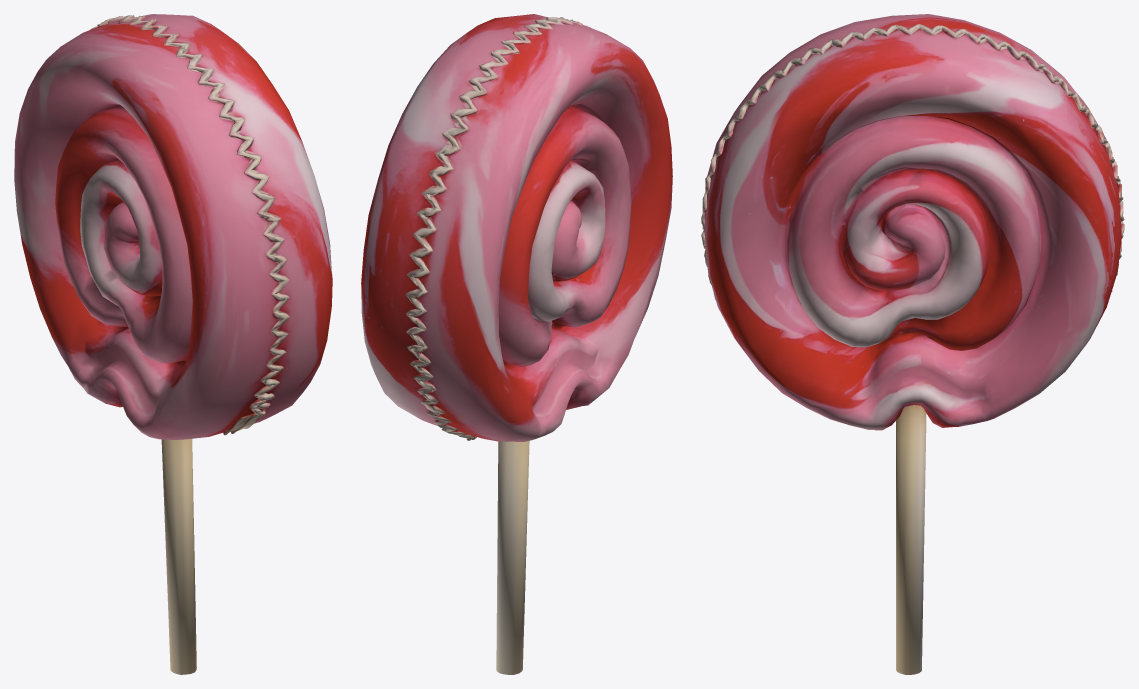
The model's file is r33-lollipop.glb.
3 views of the same model, side by side, from view 1: azimuth 30°, elevation 25°; view 2: azimuth 150°, elevation 25°; view 3: azimuth 270°, elevation 25° (orthographic).
Parts seen in each view (by area): view 1: tripo_node_e2425274-c538-454c-b2b8-705c08b7f1b3; view 2: tripo_node_e2425274-c538-454c-b2b8-705c08b7f1b3; view 3: tripo_node_e2425274-c538-454c-b2b8-705c08b7f1b3.
Boxes of the visible parts, x1=… form: tripo_node_e2425274-c538-454c-b2b8-705c08b7f1b3: x1=14, y1=14, x2=332, y2=674; tripo_node_e2425274-c538-454c-b2b8-705c08b7f1b3: x1=361, y1=14, x2=672, y2=674; tripo_node_e2425274-c538-454c-b2b8-705c08b7f1b3: x1=701, y1=14, x2=1124, y2=674.
Bounding box in the file's own units: 0.2285 × 0.998 × 0.6035.
1 material, 1 textured.
